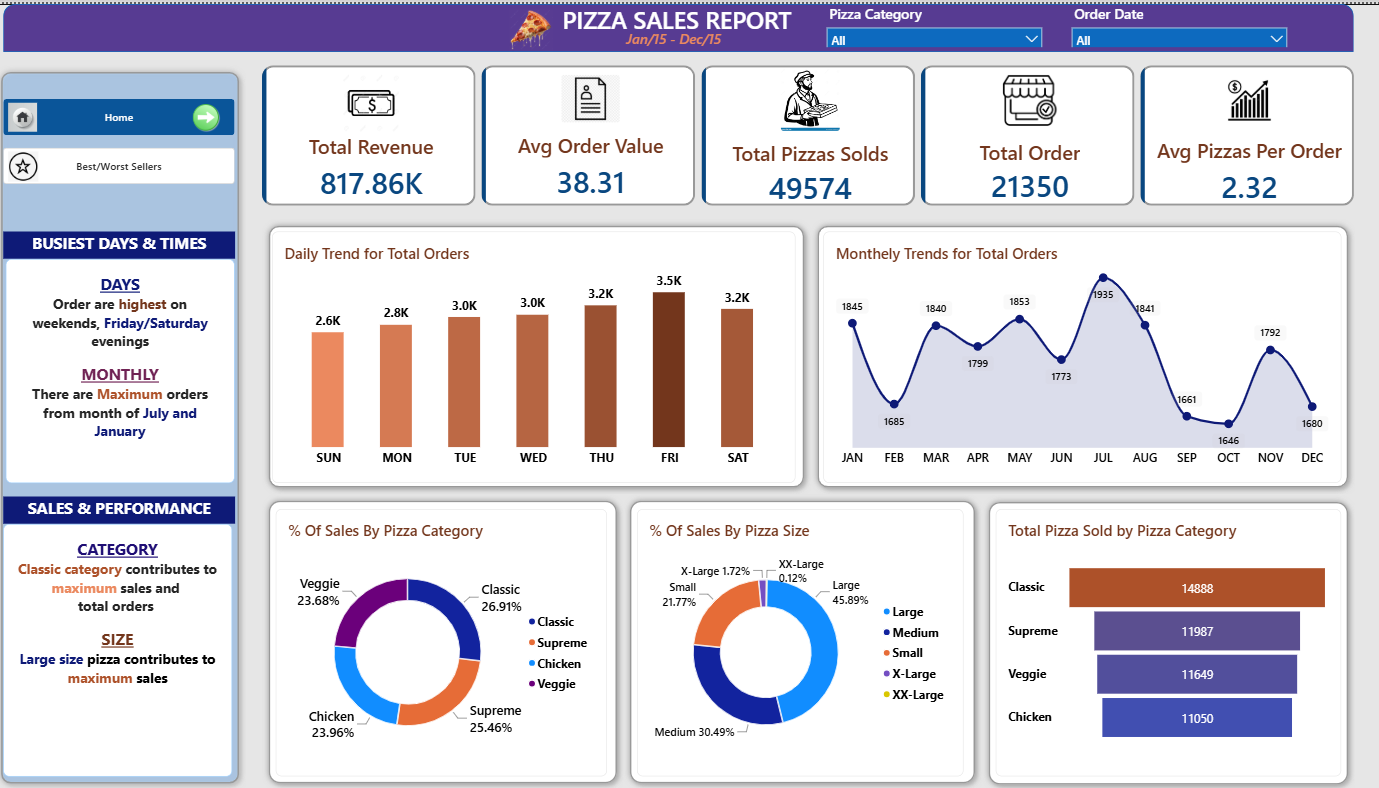

The dashboard page shown, as its layout file describes it:
{"tool":"powerbi","page":{"name":"Home","canvas":[1920,1080],"ordinal":0},"visuals":[{"type":"shape","box":[36.8,82.2,339.8,980.4],"z":0},{"type":"cardVisual","fields":{"Data":["pizza_sales.Total Revenue","pizza_sales.Avg Order Value","pizza_sales.Total Pizzas Solds","pizza_sales.Total Order","pizza_sales.Avg Pizzas Per Order"]},"box":[398.2,82.2,1478.1,190.4],"z":2000},{"type":"shape","box":[49.8,0,1826.5,64.9],"z":3000},{"type":"textbox","box":[779.1,0,361.4,49.8],"z":4000},{"type":"textbox","box":[876.5,34.6,160.1,30.3],"z":5000},{"type":"image","box":[718.5,6.5,88.7,58.4],"z":6000},{"type":"shape","box":[398.2,290,742.3,372.2],"z":7000},{"type":"columnChart","title":"Daily Trend for Total Orders","fields":{"Category":["pizza_sales.order_day"],"Y":["pizza_sales.Total Order"]},"box":[413.4,307.3,707.7,339.8],"z":8000},{"type":"shape","box":[1140.5,290,735.8,372.2],"z":9000},{"type":"areaChart","title":"Monthely Trends for Total Orders","fields":{"Category":["pizza_sales.order_month"],"Y":["pizza_sales.Total Order"]},"box":[1157.8,307.3,701.2,339.8],"z":10000},{"type":"shape","box":[398.2,662.2,489.1,400.4],"z":11000},{"type":"shape","box":[887.3,662.2,484.8,400.4],"z":12000},{"type":"shape","box":[1372.1,664.4,504.2,400.4],"z":13000},{"type":"donutChart","title":"% Of Sales By Pizza Category","fields":{"Category":["pizza_sales.pizza_category"],"Y":["pizza_sales.Total Revenue"]},"box":[417.7,683.9,448,361.4],"z":14000},{"type":"donutChart","title":"% Of Sales By Pizza Size","fields":{"Category":["pizza_sales.pizza_size"],"Y":["pizza_sales.Total Revenue"]},"box":[906.8,683.9,441.5,361.4],"z":15000},{"type":"funnel","title":"Total Pizza Sold by Pizza Category","fields":{"Category":["pizza_sales.pizza_category"],"Y":["pizza_sales.Total Pizzas Solds"]},"box":[1391.5,683.9,467.5,361.4],"z":16000},{"type":"textbox","box":[49.8,307.3,313.8,36.8],"z":16001},{"type":"textbox","box":[51.9,344.1,309.5,303],"z":16002},{"type":"textbox","box":[49.8,666.6,313.8,36.8],"z":16003},{"type":"textbox","box":[49.8,703.3,309.5,341.9],"z":16004},{"type":"slicer","fields":{"Values":["pizza_sales.pizza_category"]},"box":[1157.8,0,300.8,58.4],"z":16005},{"type":"slicer","fields":{"Values":["pizza_sales.order_date"]},"box":[1488.9,0,300.8,58.4],"z":16006},{"type":"pageNavigator","box":[49.8,127.7,313.8,49.8],"z":16007},{"type":"pageNavigator","box":[49.8,194.8,313.8,49.8],"z":16008},{"type":"image","box":[303,127.7,41.1,49.8],"z":16009},{"type":"image","box":[51.9,134.2,45.4,39],"z":16010},{"type":"image","box":[51.9,199.1,47.6,41.1],"z":16011}]}

Visuals, with their boxes in screenshot pixels (x1, y1, x2, y2), scaled from the page's 1920x1080 canvas onto the 1379x788 screenshot:
shape: bbox=(26, 60, 270, 775)
cardVisual - pizza_sales.Total Revenue x pizza_sales.Avg Order Value: bbox=(286, 60, 1348, 199)
shape: bbox=(36, 0, 1348, 47)
textbox: bbox=(560, 0, 819, 36)
textbox: bbox=(630, 25, 745, 47)
image: bbox=(516, 5, 580, 47)
shape: bbox=(286, 212, 819, 483)
"Daily Trend for Total Orders" columnChart: bbox=(297, 224, 805, 472)
shape: bbox=(819, 212, 1348, 483)
"Monthely Trends for Total Orders" areaChart: bbox=(832, 224, 1335, 472)
shape: bbox=(286, 483, 637, 775)
shape: bbox=(637, 483, 985, 775)
shape: bbox=(985, 485, 1348, 777)
"% Of Sales By Pizza Category" donutChart: bbox=(300, 499, 622, 763)
"% Of Sales By Pizza Size" donutChart: bbox=(651, 499, 968, 763)
"Total Pizza Sold by Pizza Category" funnel: bbox=(999, 499, 1335, 763)
textbox: bbox=(36, 224, 261, 251)
textbox: bbox=(37, 251, 260, 472)
textbox: bbox=(36, 486, 261, 513)
textbox: bbox=(36, 513, 258, 763)
slicer - pizza_sales.pizza_category: bbox=(832, 0, 1048, 43)
slicer - pizza_sales.order_date: bbox=(1069, 0, 1285, 43)
pageNavigator: bbox=(36, 93, 261, 130)
pageNavigator: bbox=(36, 142, 261, 178)
image: bbox=(218, 93, 247, 130)
image: bbox=(37, 98, 70, 126)
image: bbox=(37, 145, 71, 175)
